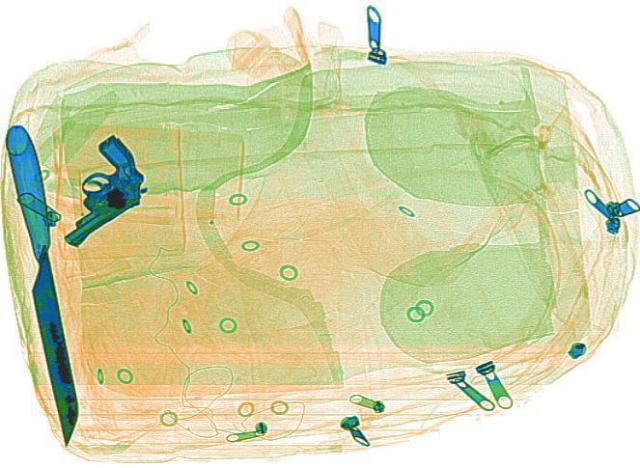Gun: (6, 131, 178, 247)
Knife: (0, 122, 84, 444)
